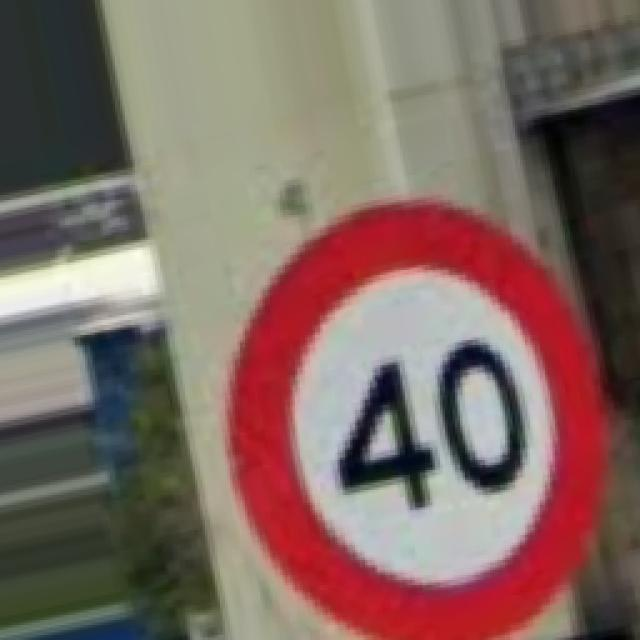Speed Limit -40-: (228, 202, 605, 635)
